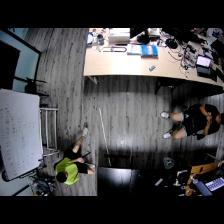normal: (55, 122, 96, 188), (160, 104, 224, 141)
